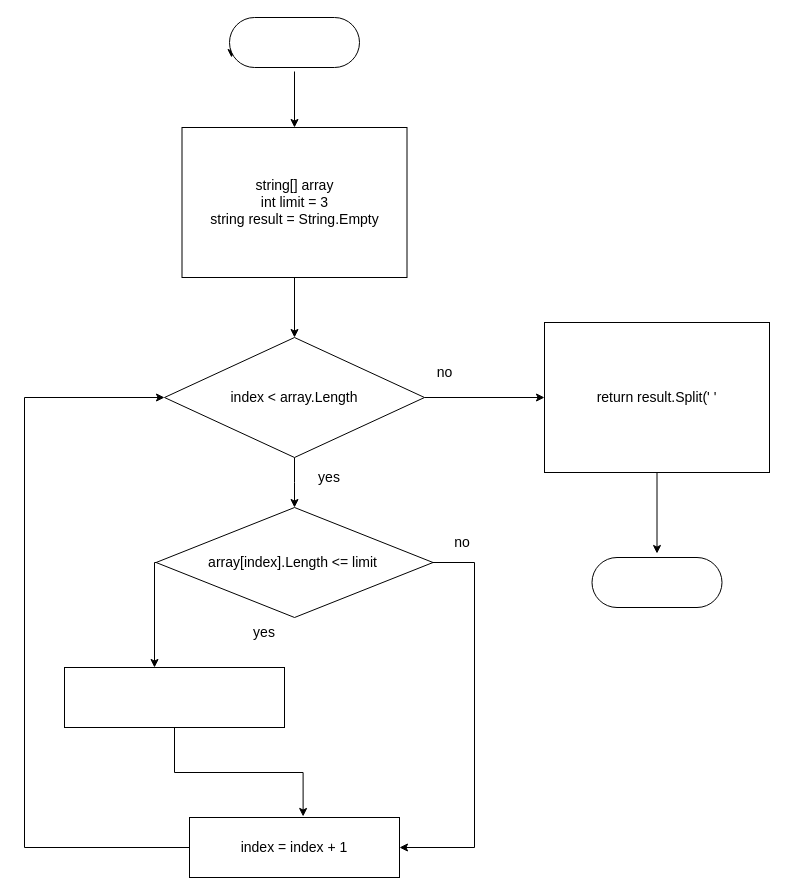
Image size: 787x895. Some labels were removed from this diagram. Here are the shapes that lost their labels. From the top down, the box of each, then its label:
(228, 16, 360, 68): Start
(591, 556, 722, 608): Finish
(64, 666, 284, 728): result += array[index]
